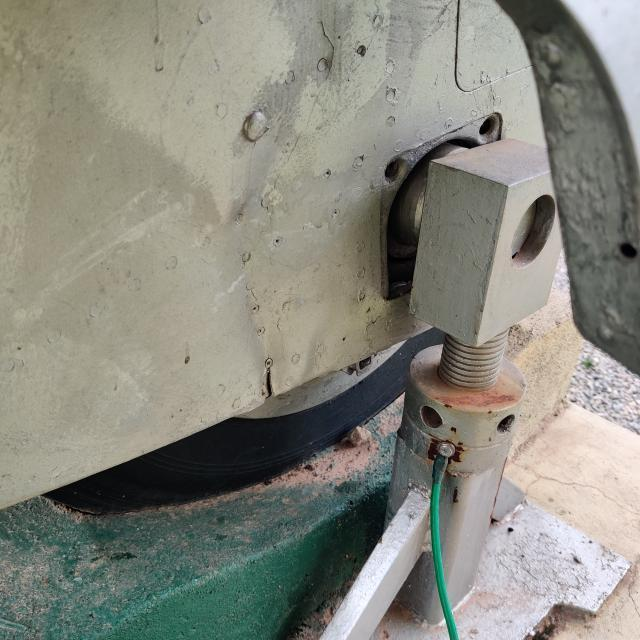Crack: (265, 361, 273, 402)
